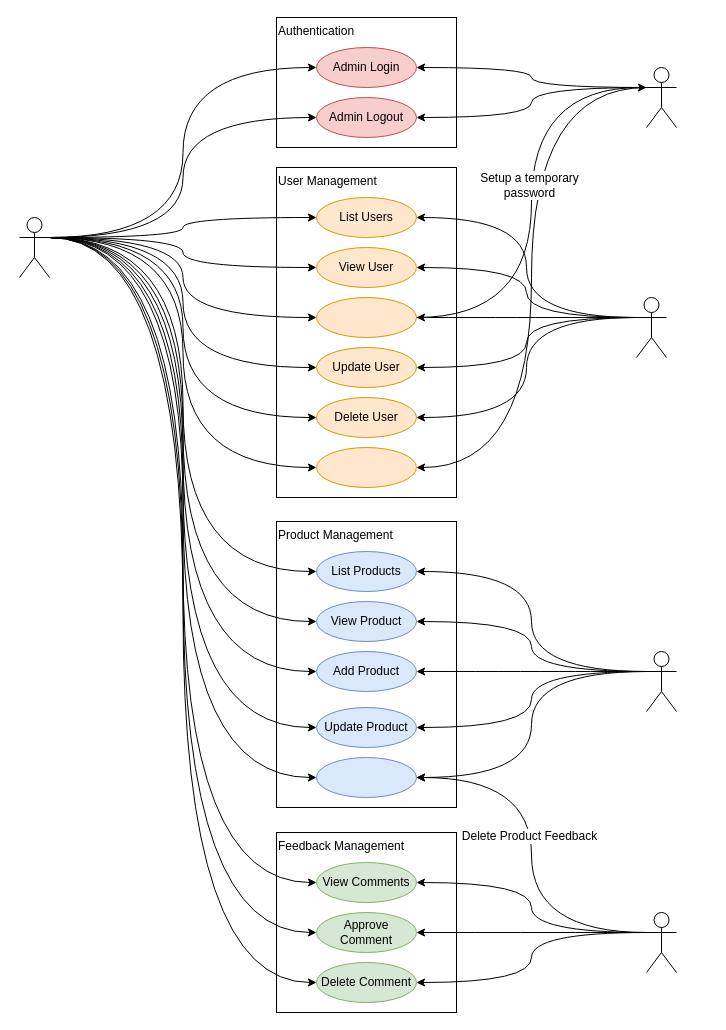
Image size: 726x1030. Some labels were removed from this diagram. Each missing label, with the centre of its shape:
Add User: (x=366, y=317)
Admin: (x=34, y=247)
Delete Product: (x=366, y=777)
Feedback Service: (x=661, y=942)
Product Service: (x=661, y=681)
Update Password: (x=366, y=467)
User Auth Service: (x=661, y=97)
User Service: (x=651, y=327)
